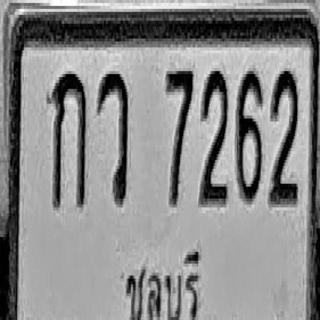A01: (51, 71, 86, 207)
A37: (97, 71, 128, 204)
N02: (199, 68, 228, 204), (269, 68, 298, 204)
N06: (236, 68, 262, 201)
N07: (166, 68, 193, 204)
P13: (120, 240, 206, 320)
